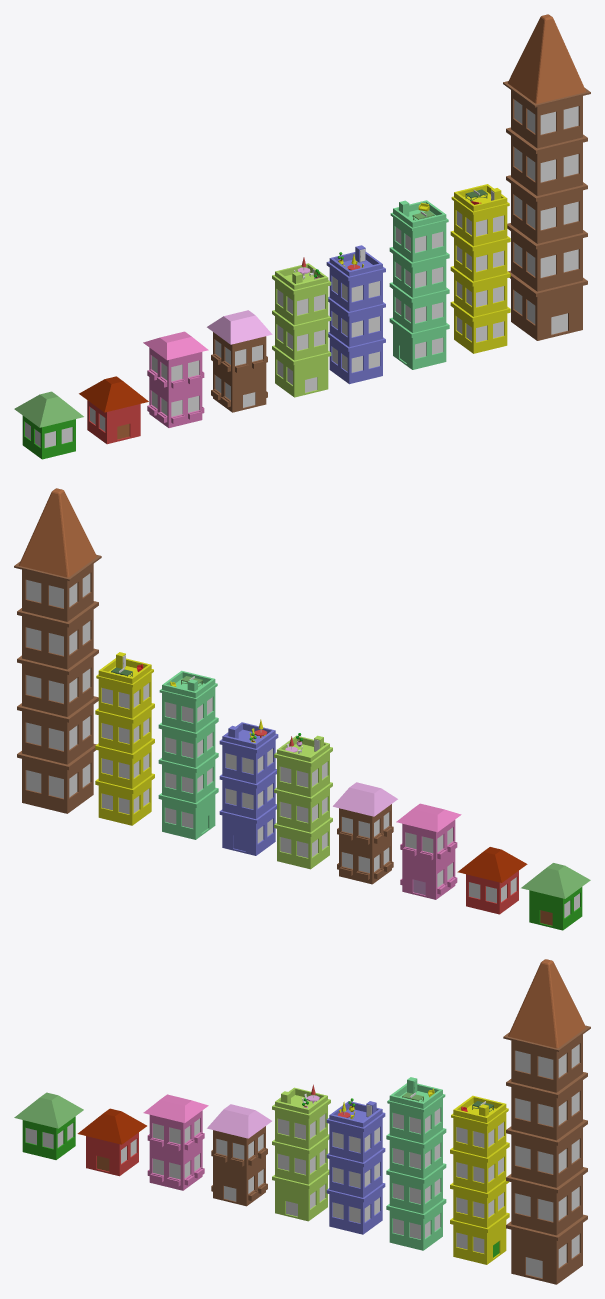
File: Home3.fbx
3 views of the same model, one above another, from view 1: azimuth 30°, elevation 25°; view 2: azimuth 150°, elevation 25°; view 3: azimuth 330°, elevation 25° (orthographic).
Parts seen in each view (by area): view 1: Cube.004, Cube.010, Cube.003, Cube.009, Cube.002, Cube.001, Cube.008, Cube, Cube.007; view 2: Cube.004, Cube.003, Cube.010, Cube.009, Cube.002, Cube.001, Cube.008, Cube.007, Cube; view 3: Cube.004, Cube.010, Cube.003, Cube.009, Cube.002, Cube.001, Cube.008, Cube.007, Cube.
Part boxes in pixels (x1,y1,x2,y2): Cube.004: (503,14,590,340); Cube.010: (389,200,449,369); Cube.003: (450,184,510,353); Cube.009: (326,245,385,384); Cube.002: (272,257,331,397); Cube.001: (207,310,272,412); Cube.008: (143,331,208,427); Cube: (79,376,148,444); Cube.007: (14,391,83,459); Cube.004: (14,488,101,813); Cube.003: (95,652,154,825); Cube.010: (158,670,218,839); Cube.009: (219,719,278,855); Cube.002: (274,733,332,869); Cube.001: (333,782,397,884); Cube.008: (396,803,461,899); Cube.007: (521,863,590,930); Cube: (457,847,527,914); Cube.004: (503,959,590,1284); Cube.010: (386,1077,446,1250); Cube.003: (450,1095,509,1264); Cube.009: (326,1098,385,1234); Cube.002: (272,1084,330,1221); Cube.001: (207,1104,271,1206); Cube.008: (143,1094,208,1190); Cube.007: (14,1092,83,1159); Cube: (77,1108,146,1176).
Size of the model in its own units: 1627 by 877 by 165.
